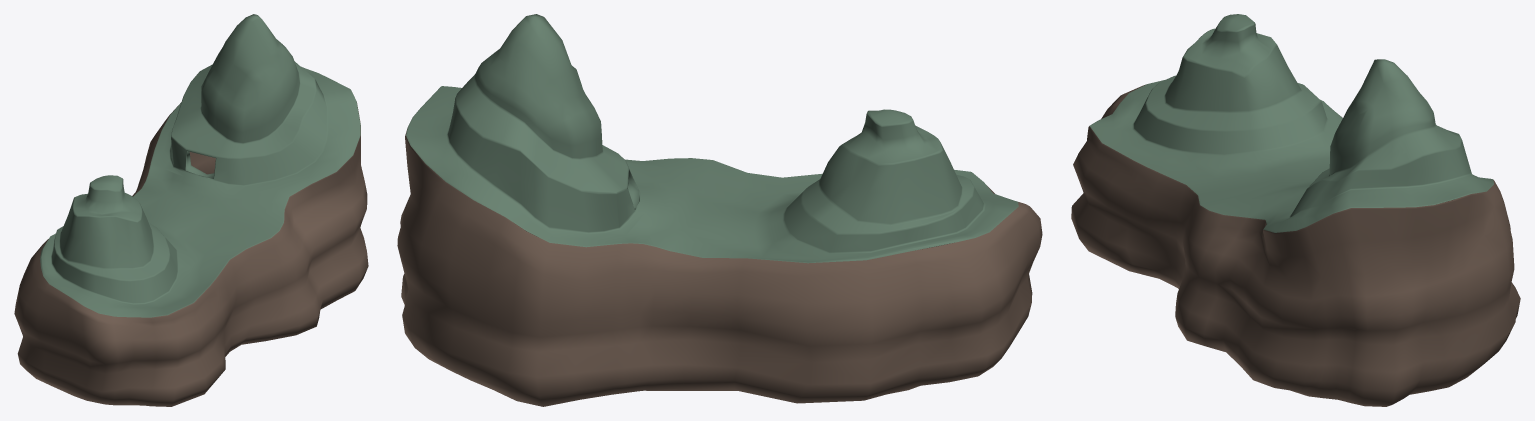
Rendered from Mountain Outside.fbx.
3 views of the same model, side by side, from view 1: azimuth 30°, elevation 25°; view 2: azimuth 150°, elevation 25°; view 3: azimuth 270°, elevation 25° (orthographic). The views are drawn at different scales.
Visible parts, largest first — view 1: Top_Outer, Bottom_Outer; view 2: Bottom_Outer, Top_Outer; view 3: Bottom_Outer, Top_Outer.
Part boxes in pixels (x1,y1,x2,y2): Top_Outer: (40, 14, 360, 317); Bottom_Outer: (14, 102, 368, 406); Bottom_Outer: (397, 128, 1042, 406); Top_Outer: (406, 14, 1018, 263); Bottom_Outer: (1071, 84, 1520, 406); Top_Outer: (1089, 14, 1493, 232).
Bounding box in the file's own units: 81.41 × 50.86 × 68.42.
